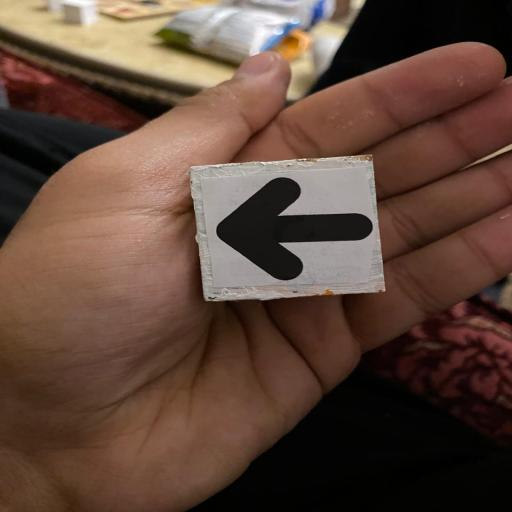Back: (182, 158, 396, 304)
